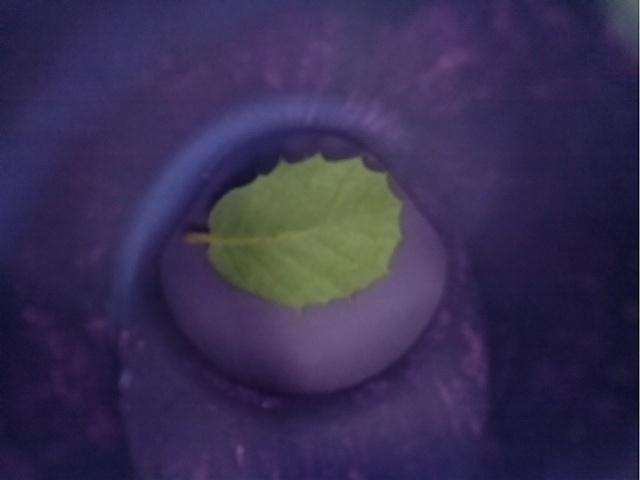feuille: (168, 145, 417, 319)
